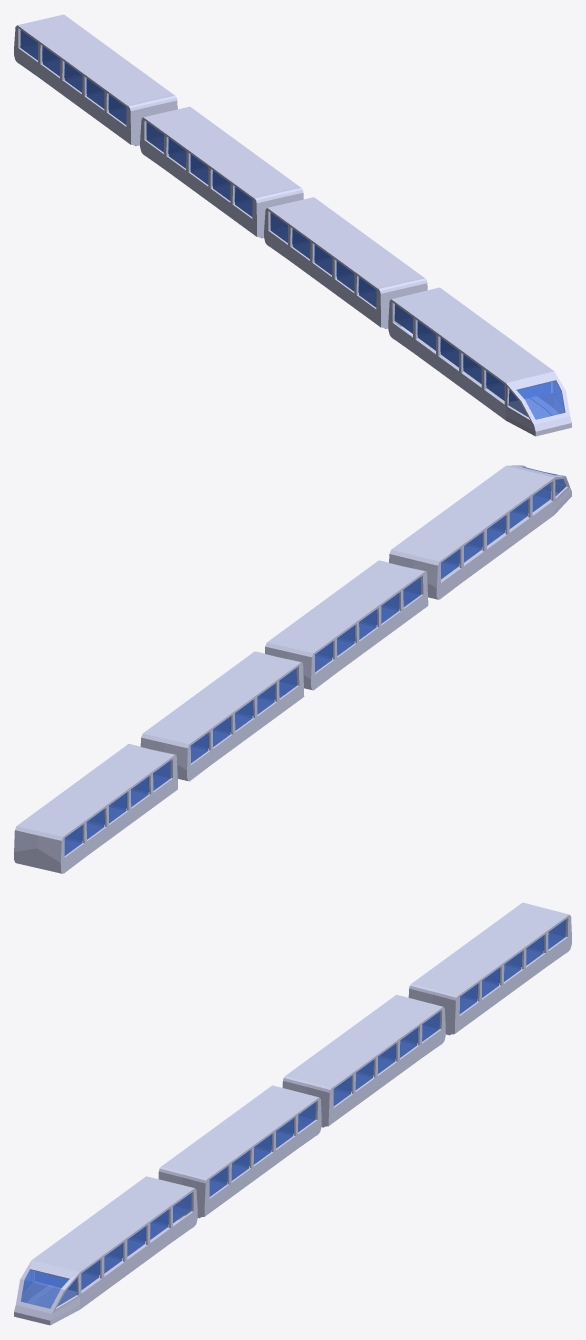
The model's file is Train.glb.
3 views of the same model, one above another, from view 1: azimuth 30°, elevation 25°; view 2: azimuth 150°, elevation 25°; view 3: azimuth 330°, elevation 25° (orthographic).
Visible parts, largest first — view 1: Train.001; view 2: Train.001; view 3: Train.001.
Boxes of the visible parts, x1,y1,x2,y2 form: Train.001: (14, 14, 571, 436); Train.001: (14, 465, 571, 873); Train.001: (14, 902, 571, 1325).
Bounding box in the file's own units: 1.37 × 1.09 × 25.22.
